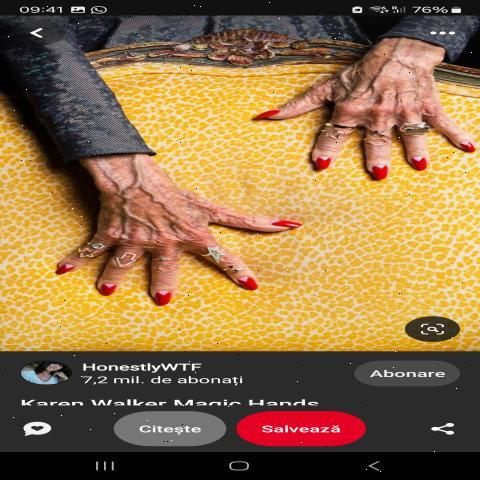Hands: (17, 139, 308, 324), (235, 42, 480, 204)
